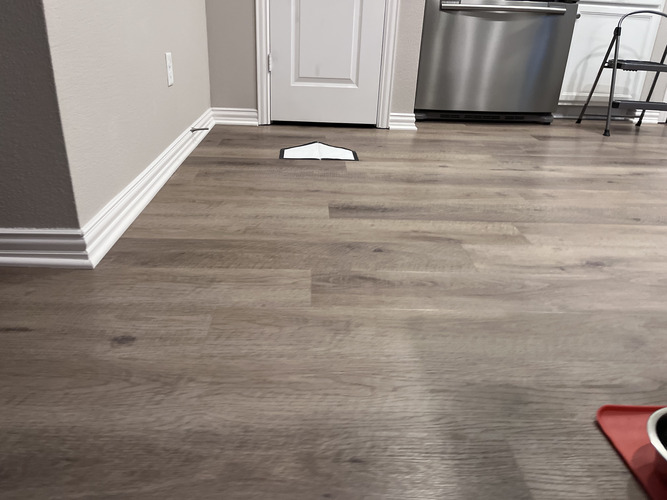homeplate: (279, 141, 358, 160)
